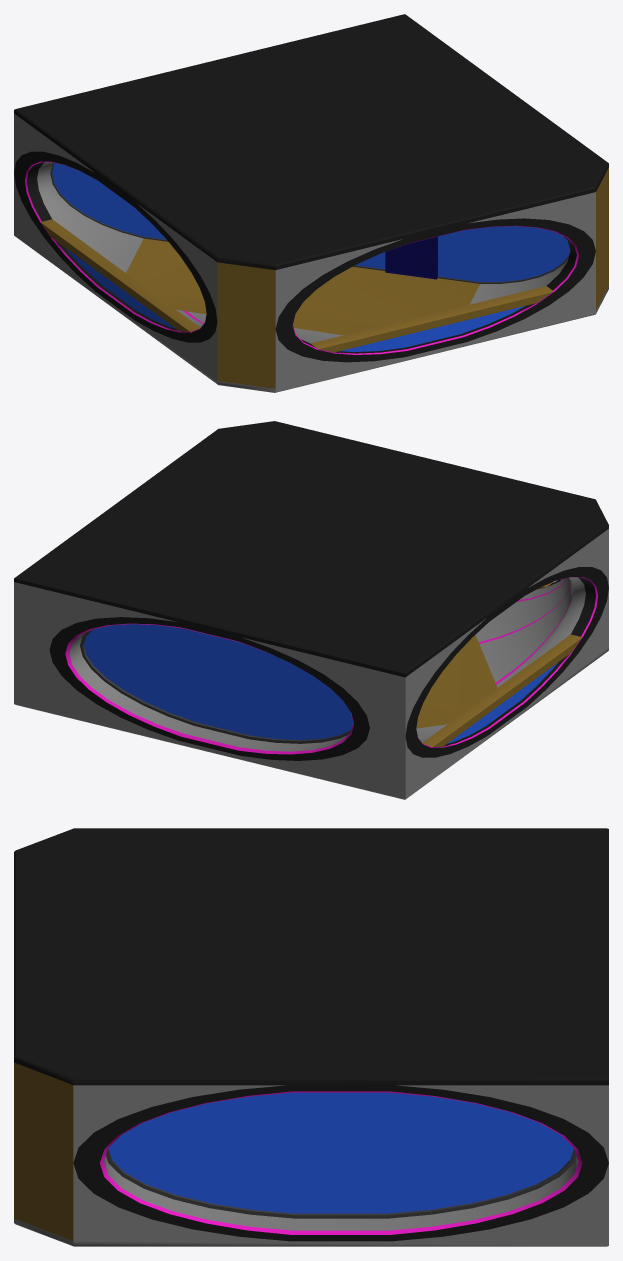
File: SM_Building_Middle_MK7.fbx
3 views of the same model, one above another, from view 1: azimuth 30°, elevation 25°; view 2: azimuth 150°, elevation 25°; view 3: azimuth 270°, elevation 25° (orthographic). The views are drawn at different scales.
Parts seen in each view (by area): view 1: SM_Building_Middle_MK7; view 2: SM_Building_Middle_MK7; view 3: SM_Building_Middle_MK7.
Part boxes in pixels (<box>): SM_Building_Middle_MK7: <box>14,14,608,392</box>; SM_Building_Middle_MK7: <box>14,421,608,799</box>; SM_Building_Middle_MK7: <box>14,828,608,1246</box>.
Size of the model in its own units: 1600 by 500 by 1600.
